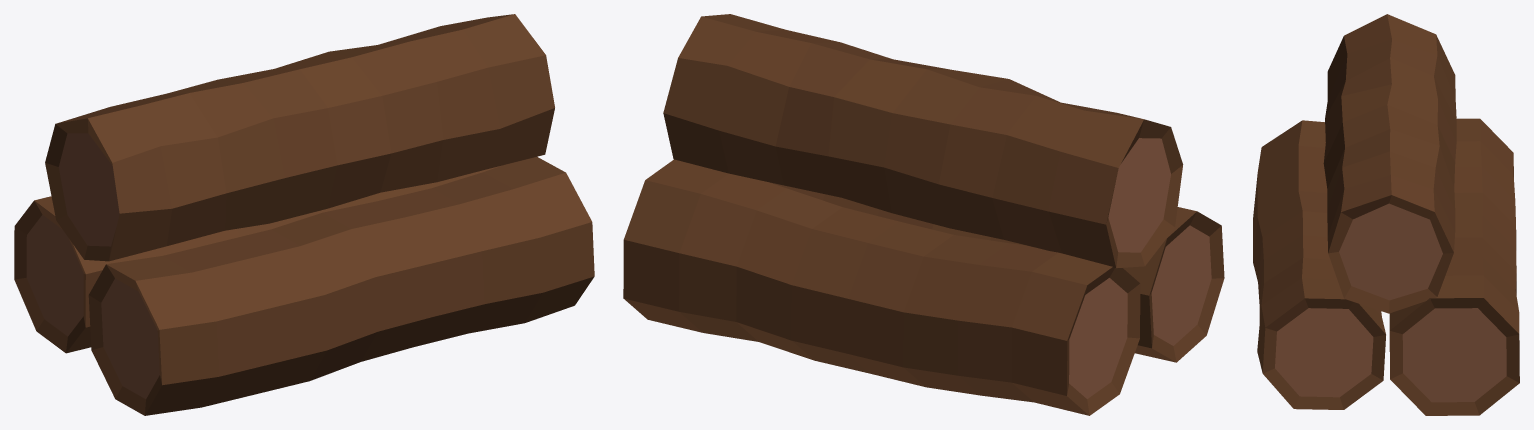
Rendered from Logs.fbx.
3 renders of one model, left to right at view 1: azimuth 30°, elevation 25°; view 2: azimuth 150°, elevation 25°; view 3: azimuth 270°, elevation 25°, orthographic. The views are drawn at different scales.
Parts seen in each view (by area): view 1: Logs; view 2: Logs; view 3: Logs.
Part boxes in pixels (x1=…): Logs: x1=14, y1=14, x2=594, y2=415; Logs: x1=623, y1=14, x2=1224, y2=415; Logs: x1=1253, y1=14, x2=1519, y2=415.
Bounding box in the file's own units: 91.54 × 52.32 × 56.63.
